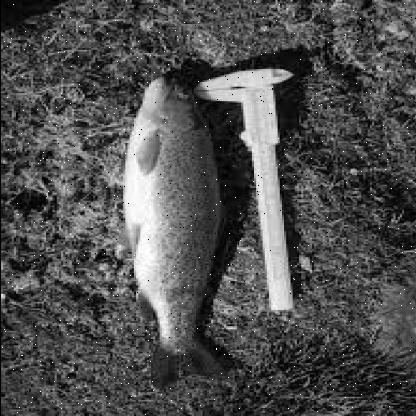fish: (126, 74, 236, 386)
